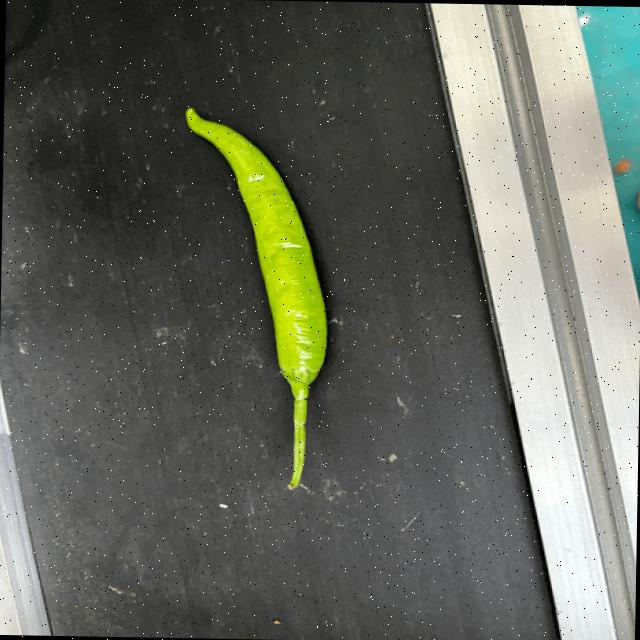chili: (183, 105, 328, 384)
